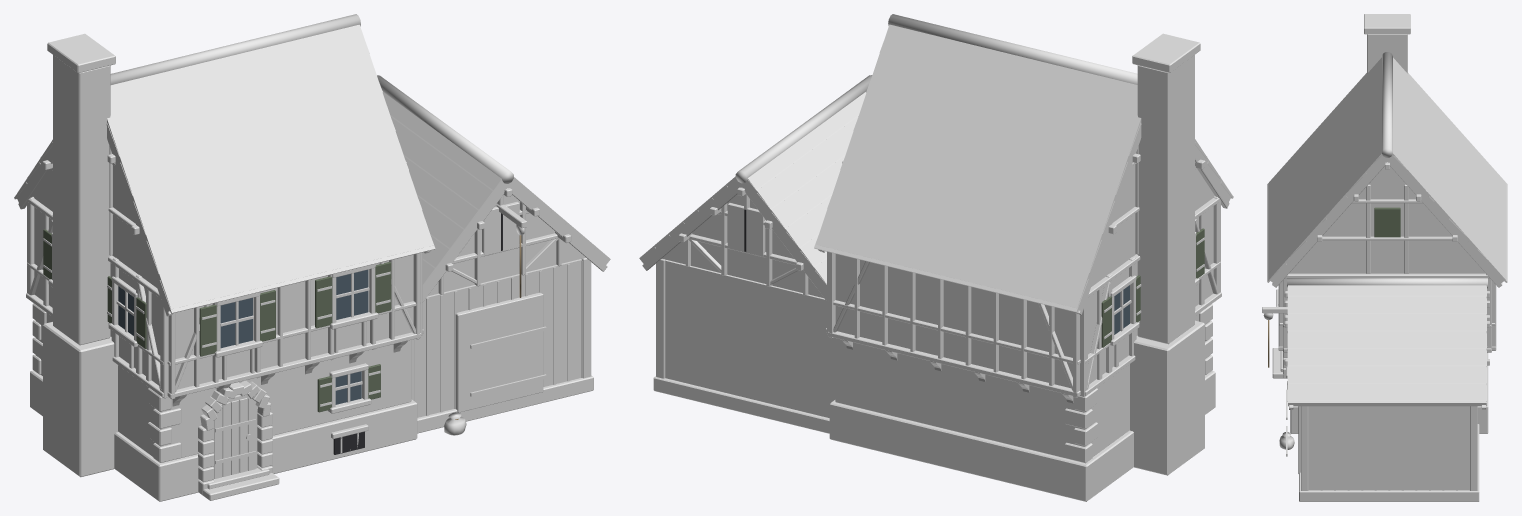
The model's file is ville_16_gouttereau_grange_chaume.fbx.
3 renders of one model, left to right at view 1: azimuth 30°, elevation 25°; view 2: azimuth 150°, elevation 25°; view 3: azimuth 270°, elevation 25°, orthographic. The views are drawn at different scales.
Visible parts, largest first — view 1: ville_16_gouttereau_grange_chaume_LOD0; view 2: ville_16_gouttereau_grange_chaume_LOD0; view 3: ville_16_gouttereau_grange_chaume_LOD0.
Boxes of the visible parts, left/top/right/bottom form: ville_16_gouttereau_grange_chaume_LOD0: left=14, top=14, right=610, bottom=501; ville_16_gouttereau_grange_chaume_LOD0: left=639, top=14, right=1233, bottom=501; ville_16_gouttereau_grange_chaume_LOD0: left=1262, top=14, right=1507, bottom=501.
Size of what is drawn, in the model's own units: 11.58 by 9.37 by 6.67.
